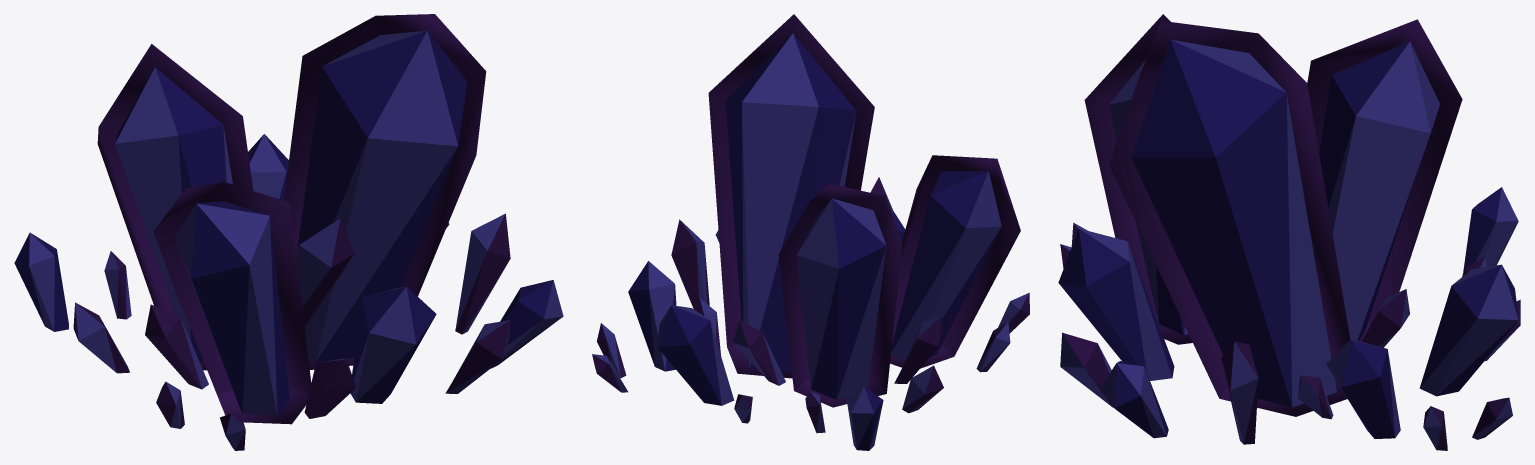
3 renders of one model, left to right at view 1: azimuth 30°, elevation 25°; view 2: azimuth 150°, elevation 25°; view 3: azimuth 270°, elevation 25°, orthographic. The views are drawn at different scales.
Parts seen in each view (by area): view 1: 30698; view 2: 30698; view 3: 30698.
Part boxes in pixels (box(x1,y1,x2,y2)): 30698: box(14, 14, 563, 450); 30698: box(592, 14, 1029, 450); 30698: box(1058, 14, 1520, 450).
Bounding box in the file's own units: 249 × 228 × 247.
